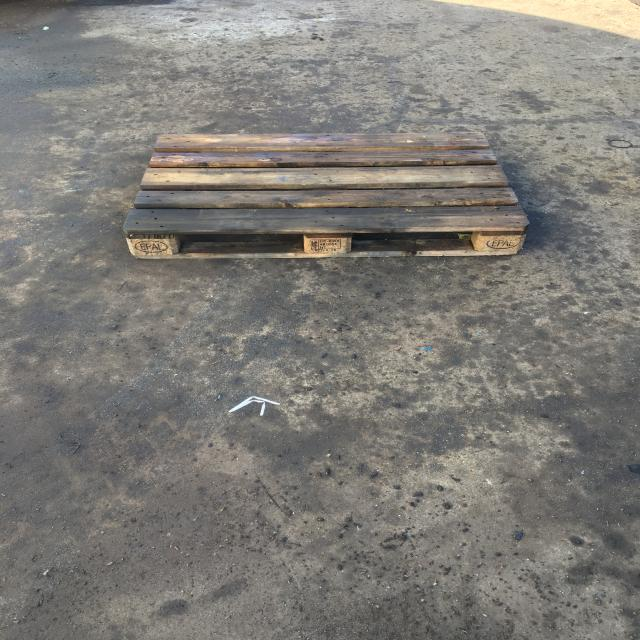block: (126, 231, 181, 261), (304, 227, 352, 258), (478, 229, 530, 257)
front: (123, 225, 530, 262)
